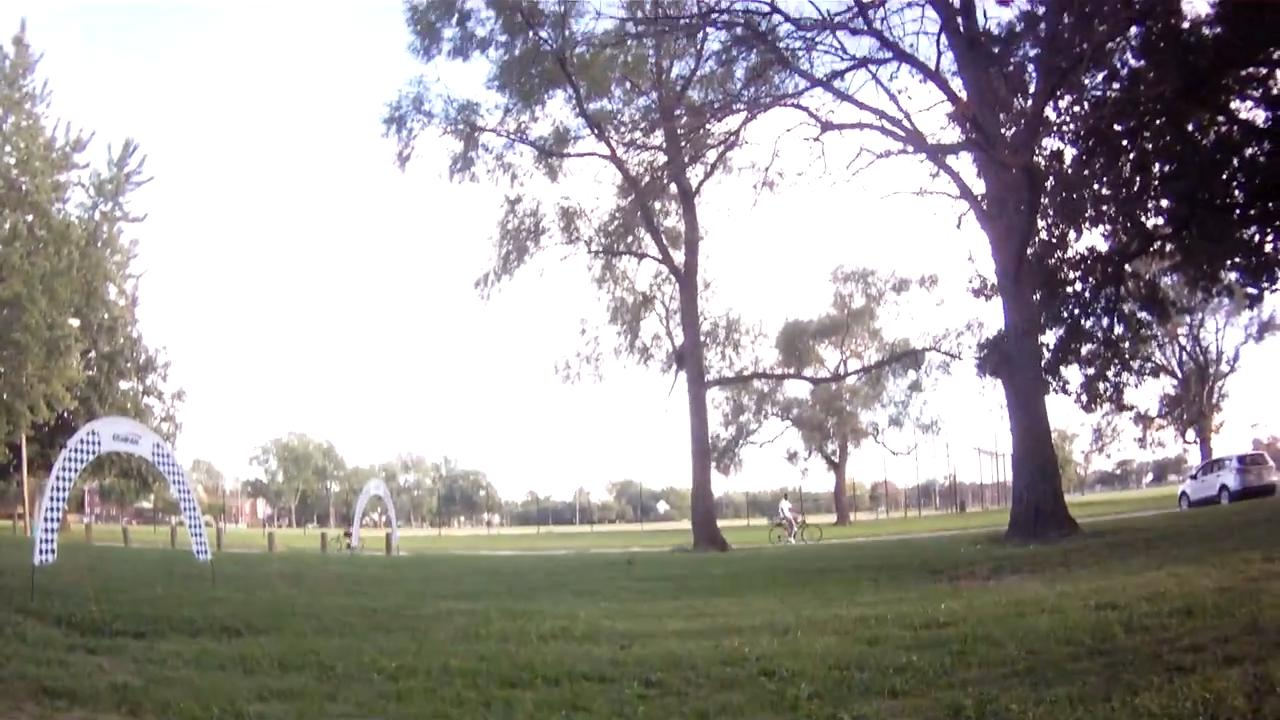gate: (32, 413, 214, 572)
